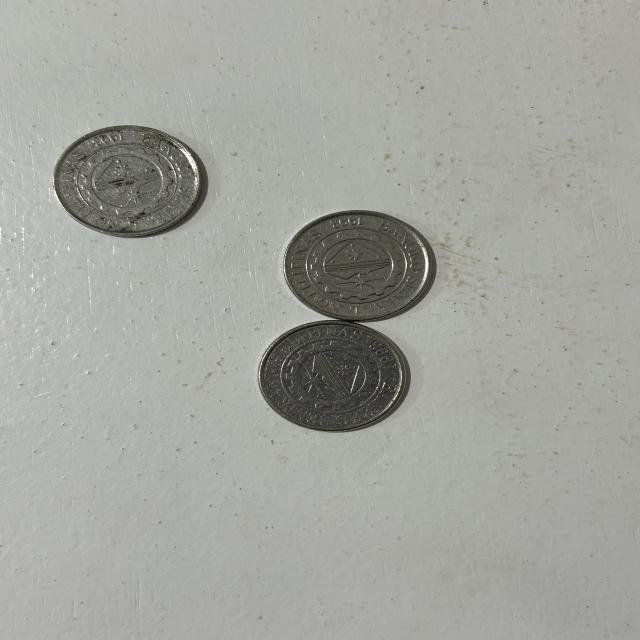1_Old_Back: (280, 335, 387, 419), (305, 225, 408, 305), (74, 142, 178, 220)
